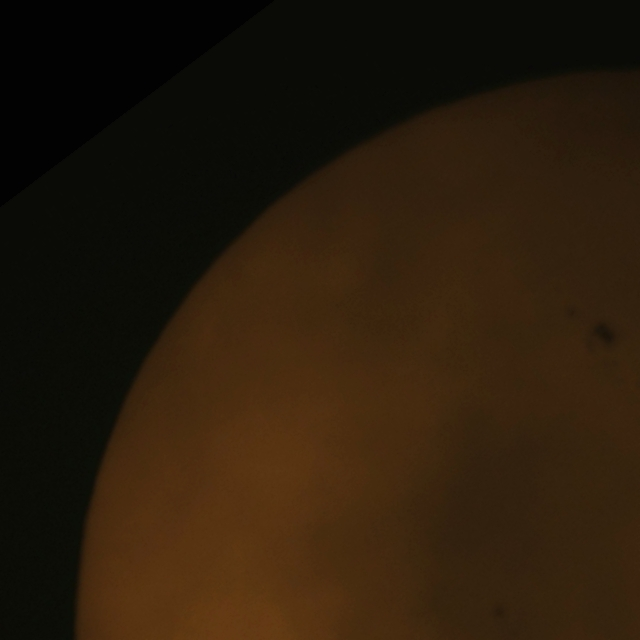sunspot: (559, 294, 639, 366), (473, 593, 531, 640)
